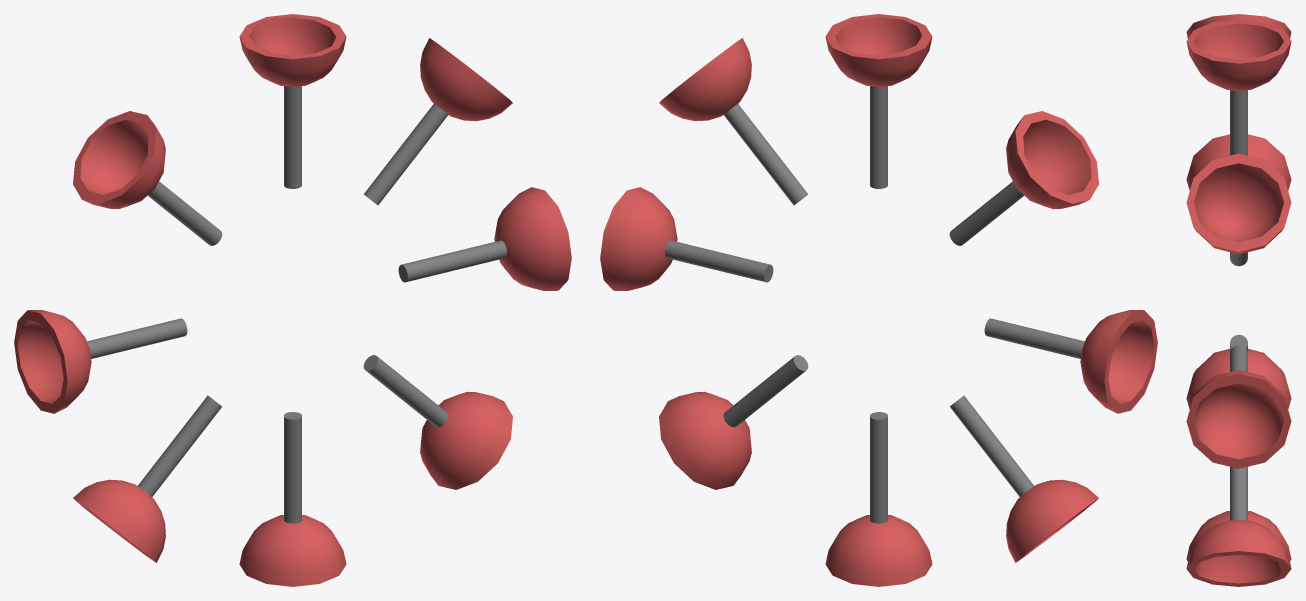
The model's file is plungers.obj.
The picture shows the model from 3 angles, left to right: view 1: azimuth 30°, elevation 25°; view 2: azimuth 150°, elevation 25°; view 3: azimuth 270°, elevation 25°; orthographic projection.
Parts seen in each view (by area): view 1: plunger pSphere2, plunger pSphere6, plunger pSphere3, pSphere1 plunger, plunger pSphere7, plunger pSphere5, plunger pSphere4, plunger pSphere8, plunger pCylinder8, plunger pCylinder4, plunger pCylinder7, plunger pCylinder5 (+4 smaller); view 2: plunger pSphere2, plunger pSphere6, plunger pSphere3, pSphere1 plunger, plunger pSphere7, plunger pSphere5, plunger pSphere4, plunger pSphere8, plunger pCylinder8, plunger pCylinder4, plunger pCylinder7, plunger pCylinder5 (+4 smaller); view 3: plunger pSphere8, plunger pSphere7, pSphere1 plunger, plunger pSphere6, plunger pSphere4, plunger pSphere3, plunger pCylinder1, plunger pCylinder6, plunger pSphere5, plunger pSphere2, plunger pCylinder7, plunger pCylinder8 (+1 smaller).
Part boxes in pixels (x1,y1,x2,y2): plunger pSphere2: (73, 111, 165, 209); plunger pSphere6: (420, 391, 512, 489); plunger pSphere3: (14, 310, 91, 413); pSphere1 plunger: (239, 14, 346, 87); plunger pSphere7: (494, 187, 571, 290); plunger pSphere5: (239, 515, 346, 586); plunger pSphere4: (73, 479, 165, 562); plunger pSphere8: (420, 38, 512, 121); plunger pCylinder8: (364, 104, 447, 205); plunger pCylinder4: (138, 395, 221, 496); plunger pCylinder7: (398, 240, 506, 282); plunger pCylinder5: (284, 412, 301, 523); plunger pSphere2: (1006, 111, 1098, 209); plunger pSphere6: (659, 391, 751, 489); plunger pSphere3: (1080, 310, 1157, 413); pSphere1 plunger: (825, 14, 932, 87); plunger pSphere7: (600, 187, 677, 290); plunger pSphere5: (825, 515, 932, 586); plunger pSphere4: (1006, 479, 1098, 562); plunger pSphere8: (659, 38, 751, 121); plunger pCylinder8: (724, 104, 807, 205); plunger pCylinder4: (950, 395, 1033, 496); plunger pCylinder7: (665, 240, 773, 282); plunger pCylinder5: (870, 412, 887, 523); plunger pSphere8: (1186, 153, 1291, 254); plunger pSphere7: (1186, 370, 1291, 468); pSphere1 plunger: (1186, 19, 1291, 90); plunger pSphere6: (1186, 519, 1291, 586); plunger pSphere4: (1186, 349, 1291, 409); plunger pSphere3: (1186, 134, 1291, 190); plunger pCylinder1: (1230, 90, 1247, 155); plunger pCylinder6: (1230, 467, 1247, 520); plunger pSphere5: (1186, 511, 1291, 561); plunger pSphere2: (1186, 14, 1291, 38); plunger pCylinder7: (1230, 345, 1247, 371); plunger pCylinder8: (1230, 252, 1247, 266).
Bounding box in the file's own units: 17.94 × 17.94 × 3.3.
